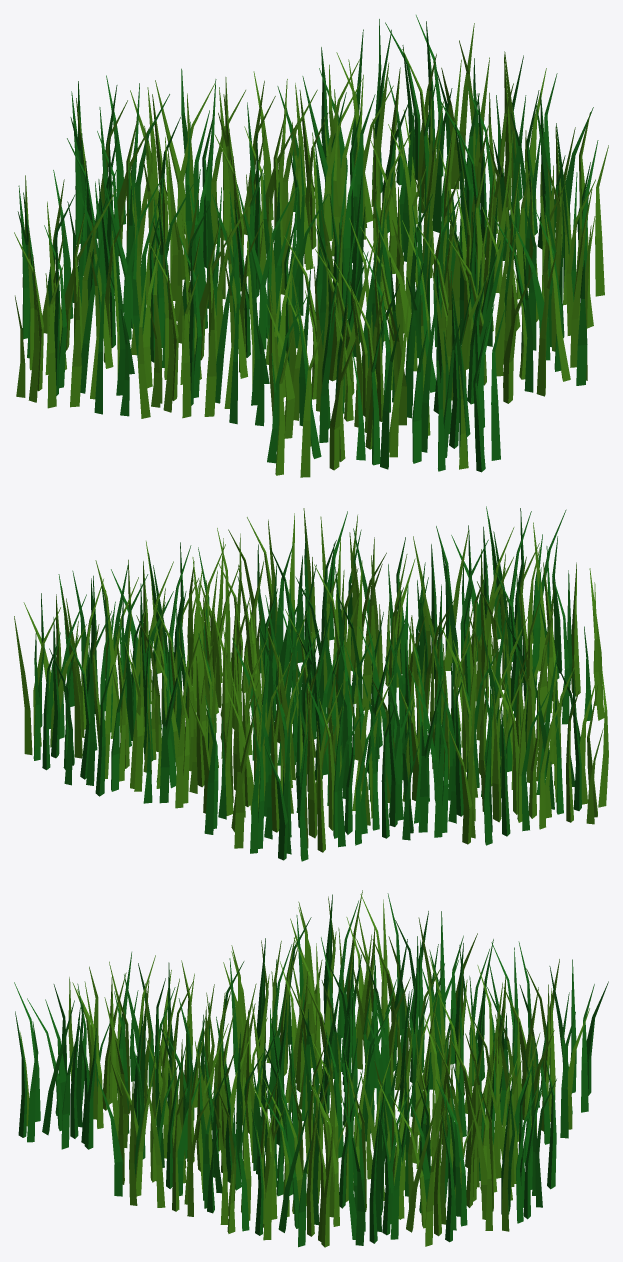
File: GrassPatch.obj
The picture shows the model from 3 angles, top to bottom: view 1: azimuth 30°, elevation 25°; view 2: azimuth 150°, elevation 25°; view 3: azimuth 270°, elevation 25°; orthographic projection. The views are drawn at different scales.
Visible parts, largest first — view 1: GrassSub_0, GrassSub_1; view 2: GrassSub_0, GrassSub_1; view 3: GrassSub_1, GrassSub_0.
Boxes of the visible parts, left/top/right/bottom form: GrassSub_0: left=14, top=23, right=608, bottom=477; GrassSub_1: left=17, top=15, right=598, bottom=472; GrassSub_0: left=14, top=508, right=608, bottom=852; GrassSub_1: left=33, top=506, right=592, bottom=861; GrassSub_1: left=14, top=893, right=608, bottom=1247; GrassSub_0: left=20, top=890, right=589, bottom=1247.
Size of the model in its own units: 2.78 by 0.8967 by 2.84.
